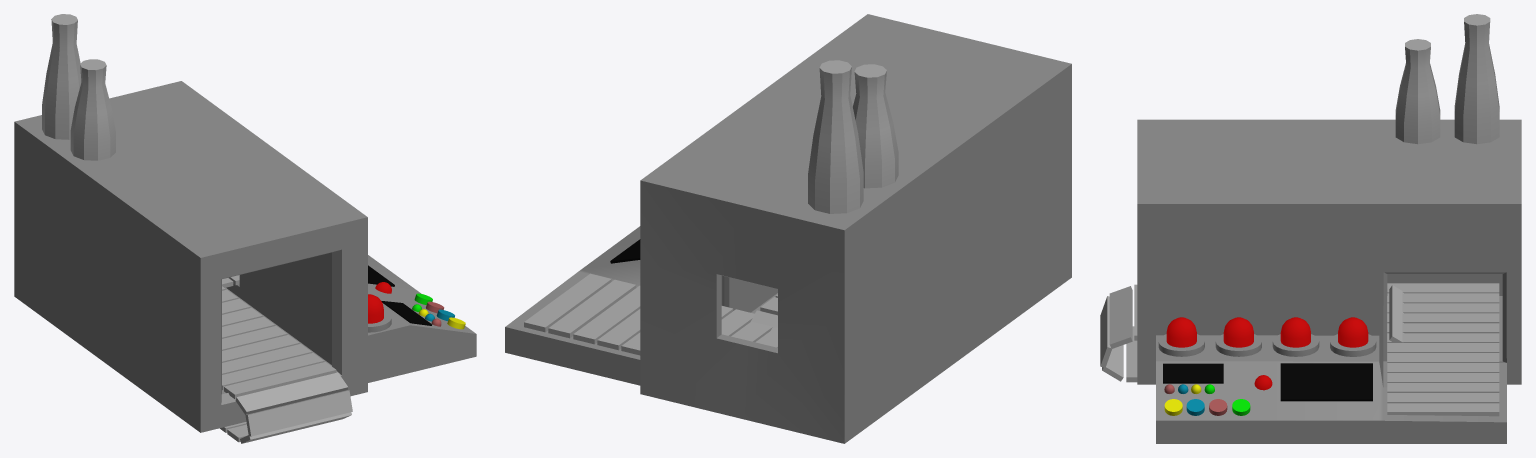
Rendered from Sheepinator.fbx.
3 views of the same model, side by side, from view 1: azimuth 30°, elevation 25°; view 2: azimuth 150°, elevation 25°; view 3: azimuth 270°, elevation 25° (orthographic). The views are drawn at different scales.
Visible parts, largest first — view 1: Sheepinator, Tread13, Tread12, Tread11, Tread10, Tread9, Tread8, Tread7, IndicatorLight, Tread14, Tread6, Screen1 (+1 smaller); view 2: Sheepinator, Treads16, Treads17, Treads12, Treads11, Treads8; view 3: Sheepinator, Screen, Treads17, IndicatorLight3, IndicatorLight2, IndicatorLight1, IndicatorLight, Tread12, Screen1, Treads16, Treads2, Treads12 (+13 smaller).
Part boxes in pixels (box(x1,y1,x2,y2)): Sheepinator: box(14, 14, 476, 432); Tread13: box(245, 390, 352, 436); Tread12: box(235, 372, 348, 415); Tread11: box(224, 362, 336, 399); Tread10: box(222, 353, 324, 390); Tread9: box(222, 344, 311, 374); Tread8: box(222, 335, 299, 362); Tread7: box(222, 326, 287, 350); IndicatorLight: box(368, 294, 391, 332); Tread14: box(240, 412, 351, 443); Tread6: box(222, 317, 274, 338); Screen1: box(381, 301, 432, 325); Sheepinator: box(505, 14, 1071, 443); Treads16: box(548, 279, 636, 338); Treads17: box(524, 273, 611, 332); Treads12: box(573, 285, 640, 344); Treads11: box(597, 309, 640, 350); Treads8: box(721, 309, 754, 336); Sheepinator: box(1137, 14, 1521, 443); Screen: box(1280, 363, 1372, 401); Treads17: box(1387, 403, 1499, 416); IndicatorLight3: box(1272, 317, 1319, 356); IndicatorLight2: box(1330, 317, 1376, 356); IndicatorLight1: box(1215, 317, 1261, 356); IndicatorLight: box(1158, 317, 1204, 356); Tread12: box(1109, 286, 1132, 348); Screen1: box(1163, 363, 1223, 383); Treads16: box(1387, 393, 1499, 403); Treads2: box(1387, 283, 1499, 293); Treads12: box(1387, 383, 1499, 392).
Bounding box in the file's own units: 16.87 × 16.94 × 20.91.
